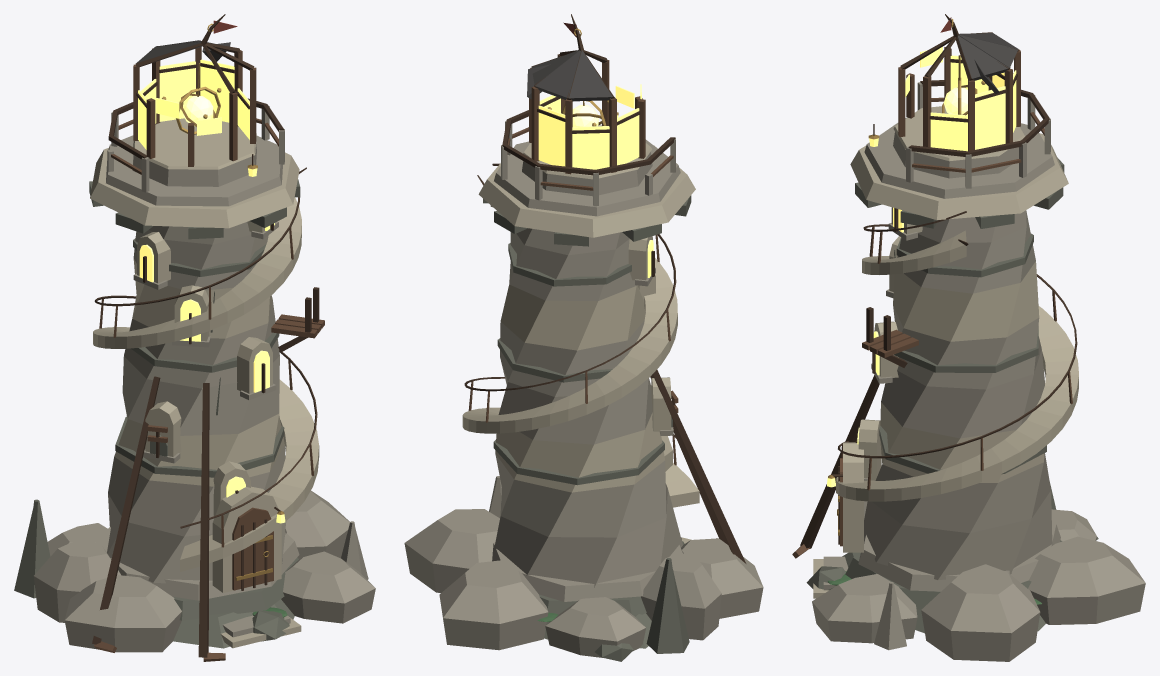
File: lighthouse.glb
The picture shows the model from 3 angles, left to right: view 1: azimuth 30°, elevation 25°; view 2: azimuth 150°, elevation 25°; view 3: azimuth 270°, elevation 25°; orthographic projection. The views are drawn at different scales.
Parts seen in each view (by area): view 1: lighthouse; view 2: lighthouse; view 3: lighthouse.
Boxes of the visible parts, x1=… form: lighthouse: x1=14, y1=14, x2=375, y2=661; lighthouse: x1=404, y1=14, x2=763, y2=661; lighthouse: x1=792, y1=14, x2=1145, y2=661.
Bounding box in the file's own units: 9.13 × 16.01 × 8.8.
